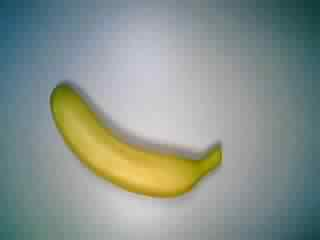banana: (44, 78, 228, 204)
